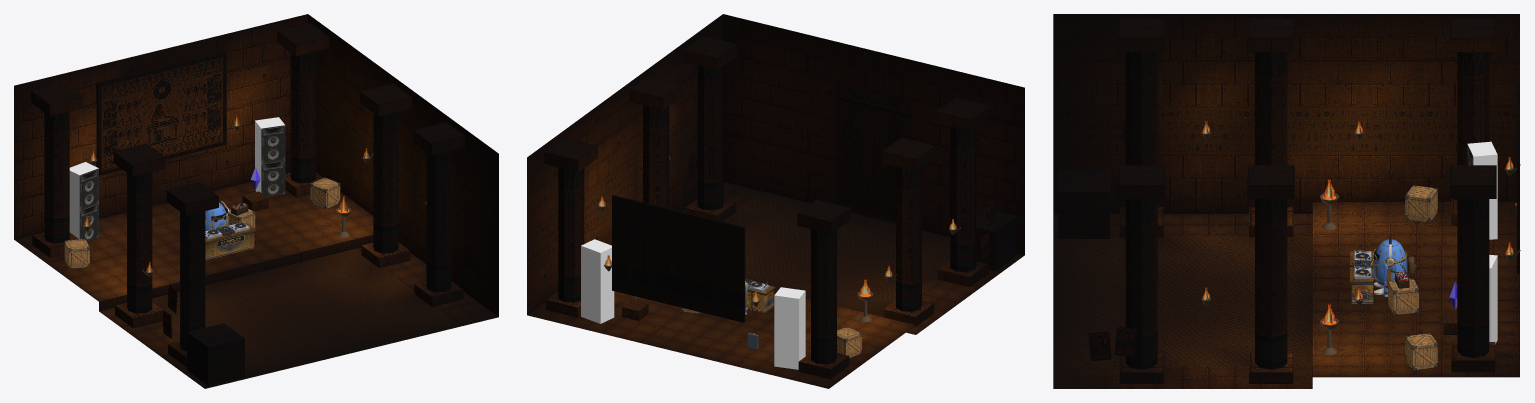
File: tomb.glb
3 views of the same model, side by side, from view 1: azimuth 30°, elevation 25°; view 2: azimuth 150°, elevation 25°; view 3: azimuth 270°, elevation 25° (orthographic). The views are drawn at different scales.
Visible parts, largest first — view 1: tomb, props; view 2: tomb, props; view 3: tomb, props, body.
Boxes of the visible parts, x1,y1,x2,y2 form: tomb: (14, 14, 498, 388); props: (64, 117, 426, 277); tomb: (527, 14, 1024, 388); props: (581, 158, 960, 369); tomb: (1053, 14, 1519, 388); props: (1201, 131, 1520, 370); body: (1371, 239, 1416, 288).
Size of the model in its own units: 16.04 by 8.5 by 18.02.
Materials: 11 (11 with a texture image).
